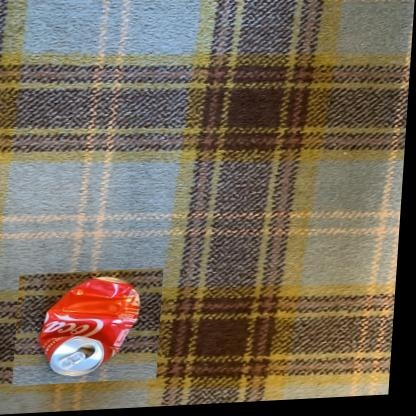trash: (39, 277, 139, 375)
